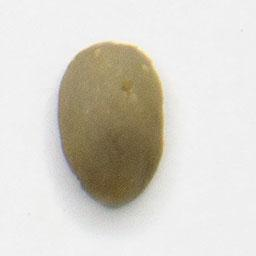premium: (55, 38, 167, 211)
